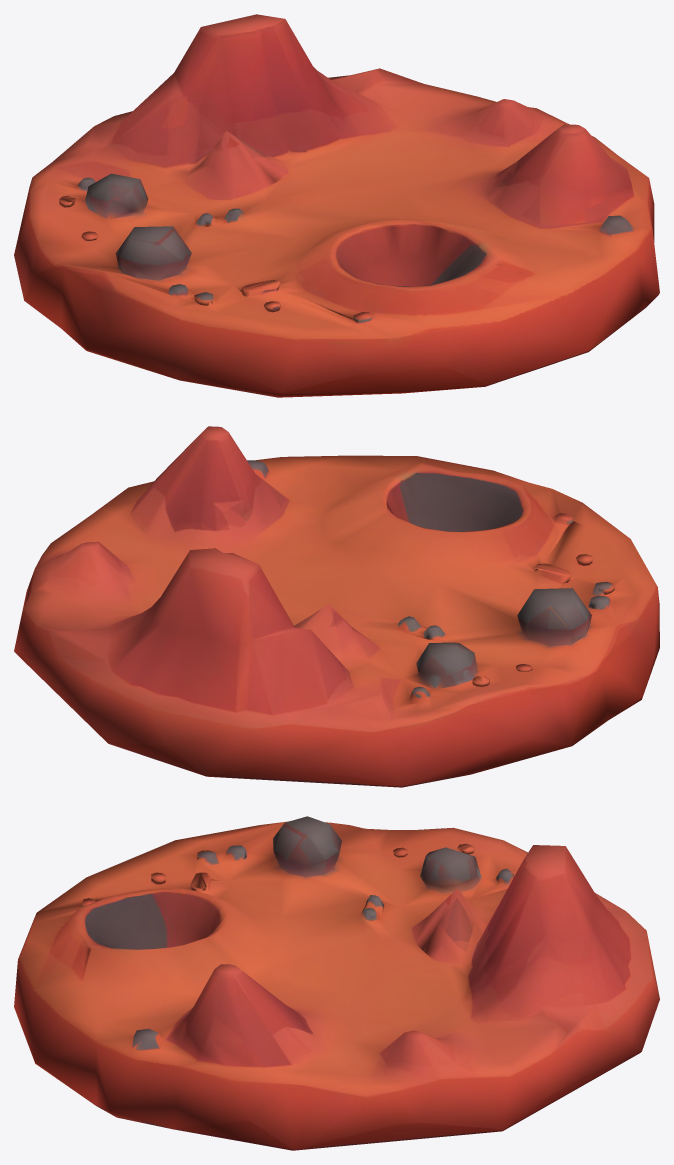
File: mars_background_20260526.glb
3 renders of one model, top to bottom at view 1: azimuth 30°, elevation 25°; view 2: azimuth 150°, elevation 25°; view 3: azimuth 270°, elevation 25°, orthographic.
Parts seen in each view (by area): view 1: material; view 2: material; view 3: material.
Boxes of the visible parts, <box> form: material: <box>14,14,659,397</box>; material: <box>14,426,659,787</box>; material: <box>14,816,659,1150</box>.
Size of the model in its own units: 1.88 by 0.5315 by 1.9.
1 material, 1 textured.
